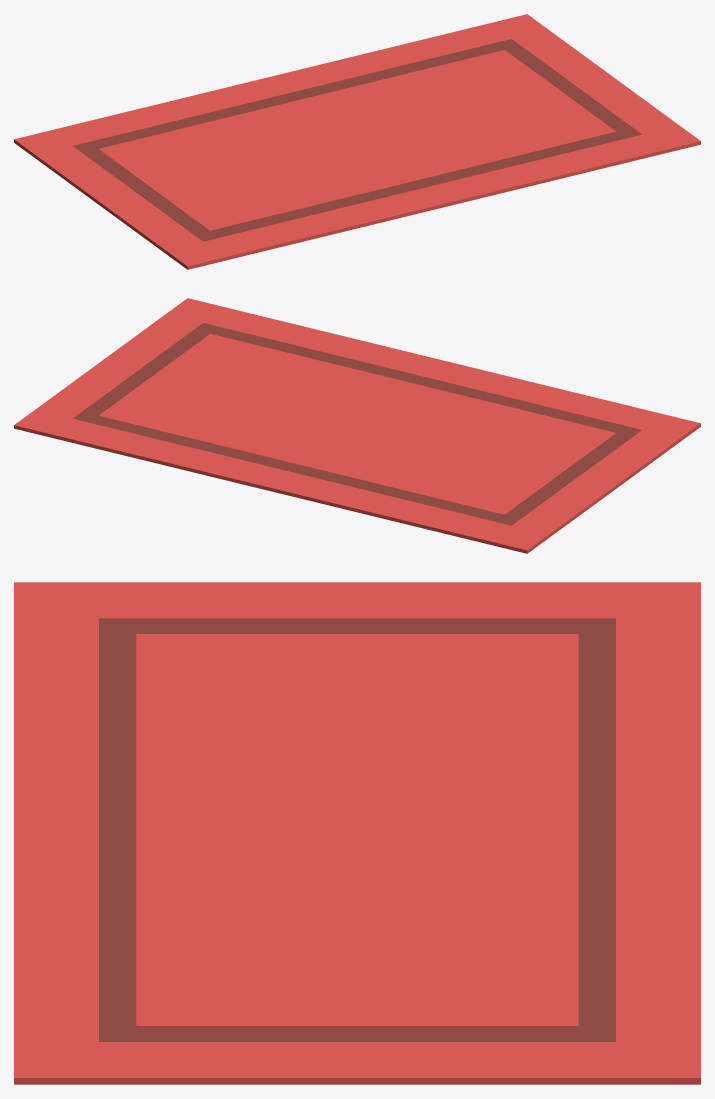
File: Decor_Rug_Rectangle.glb
3 renders of one model, top to bottom at view 1: azimuth 30°, elevation 25°; view 2: azimuth 150°, elevation 25°; view 3: azimuth 270°, elevation 25°, orthographic. The views are drawn at different scales.
Visible parts, largest first — view 1: rugRectangle; view 2: rugRectangle; view 3: rugRectangle.
Part boxes in pixels (box(x1,y1,x2,y2)): rugRectangle: box(14, 14, 700, 269); rugRectangle: box(14, 298, 700, 553); rugRectangle: box(14, 582, 700, 1084).
Size of the model in its own units: 1.57 by 0.01 by 0.92.
